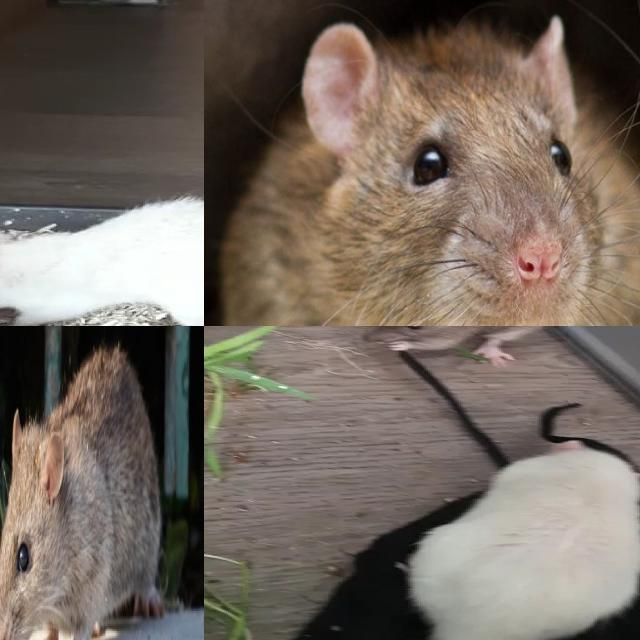rat: (238, 12, 635, 326), (404, 438, 640, 640), (0, 352, 161, 640), (0, 199, 204, 326), (355, 326, 574, 368)
